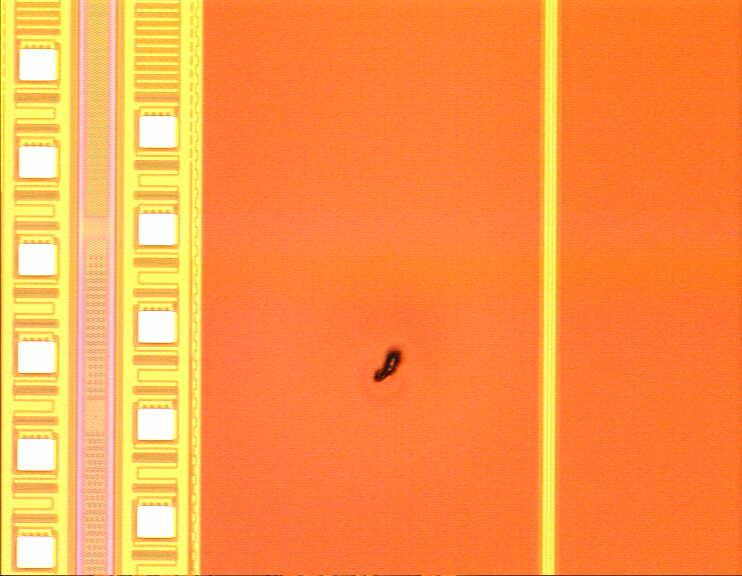PIQ PARTICLE: (370, 344, 408, 387)
